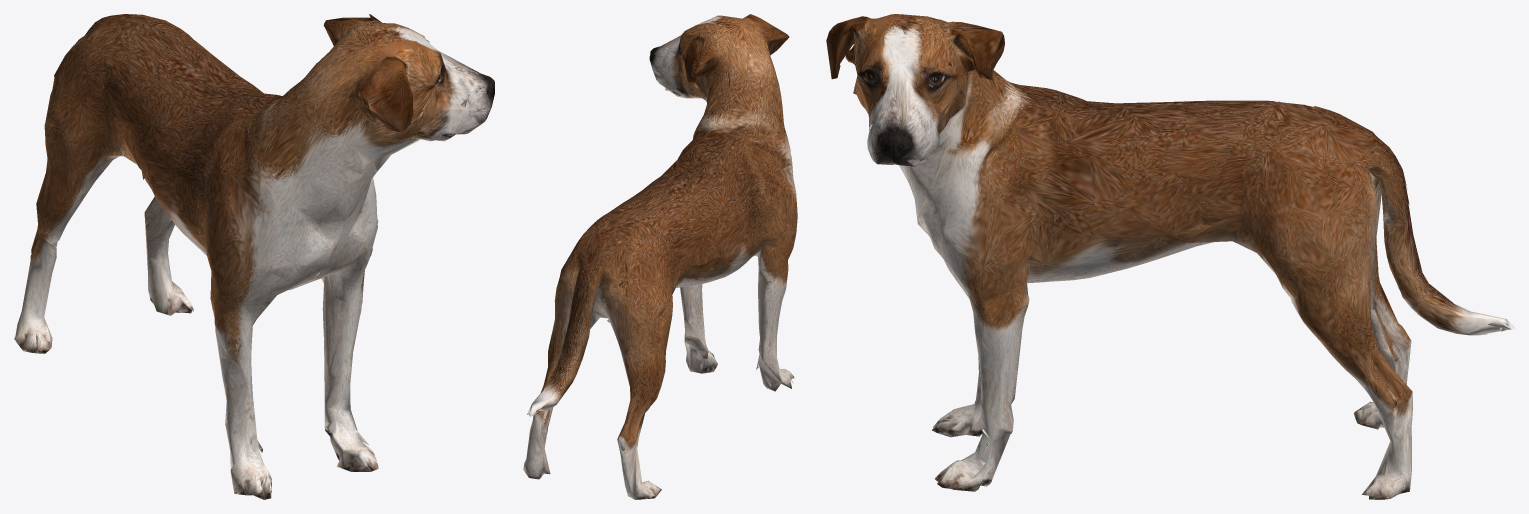
The model's file is hund_braunweiss.glb.
3 views of the same model, side by side, from view 1: azimuth 30°, elevation 25°; view 2: azimuth 150°, elevation 25°; view 3: azimuth 270°, elevation 25° (orthographic). The views are drawn at different scales.
Bounding box in the file's own units: 0.7893 × 1.41 × 1.9.
1 material, 1 textured.
